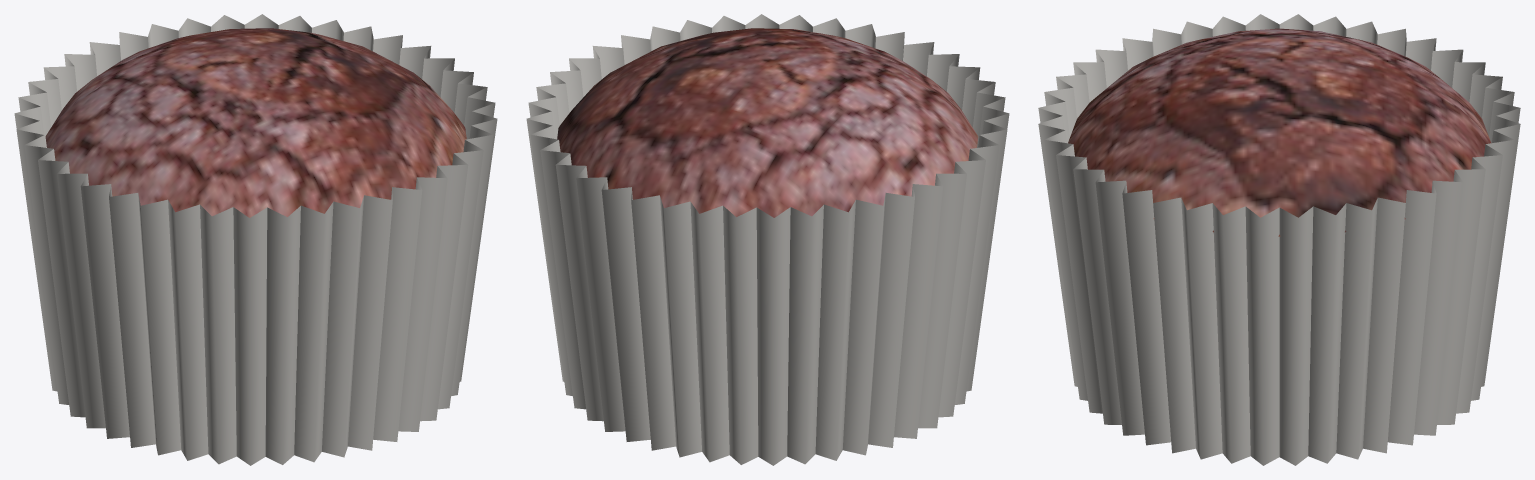
The model's file is Muffin.gltf.
The picture shows the model from 3 angles, left to right: view 1: azimuth 30°, elevation 25°; view 2: azimuth 150°, elevation 25°; view 3: azimuth 270°, elevation 25°; orthographic projection.
Parts seen in each view (by area): view 1: pSphere2_Paper_0, pSphere2_Muffin_0; view 2: pSphere2_Paper_0, pSphere2_Muffin_0; view 3: pSphere2_Paper_0, pSphere2_Muffin_0.
Boxes of the visible parts, left/top/right/bottom form: pSphere2_Paper_0: left=14, top=14, right=497, bottom=465; pSphere2_Muffin_0: left=45, top=28, right=466, bottom=217; pSphere2_Paper_0: left=526, top=14, right=1009, bottom=465; pSphere2_Muffin_0: left=557, top=28, right=978, bottom=217; pSphere2_Paper_0: left=1038, top=14, right=1520, bottom=465; pSphere2_Muffin_0: left=1068, top=28, right=1490, bottom=236.
Bounding box in the file's own units: 2.29 × 1.68 × 2.29.
Materials: 2 (1 with a texture image).
